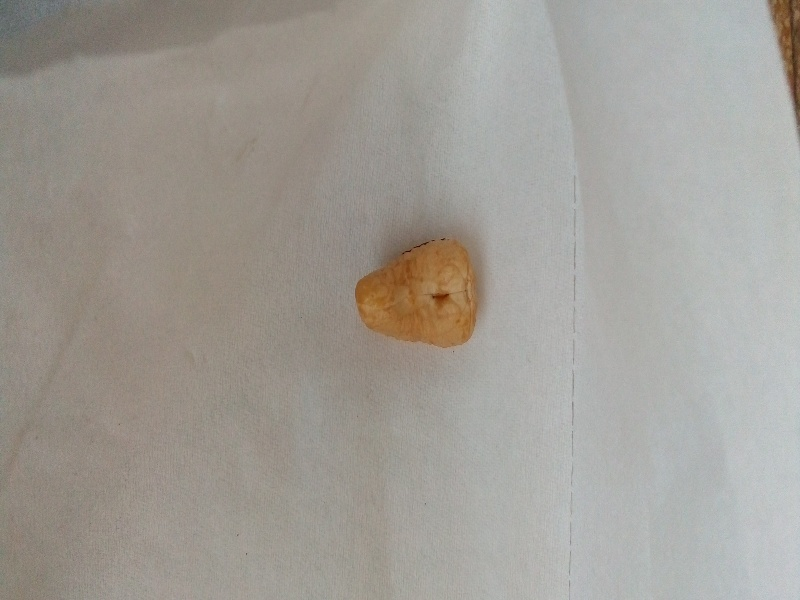cashew: (342, 210, 508, 372)
